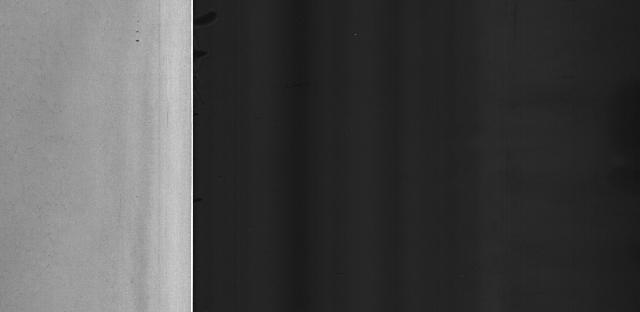inclusion: (132, 18, 144, 44)
silk_spot: (0, 4, 79, 304)
